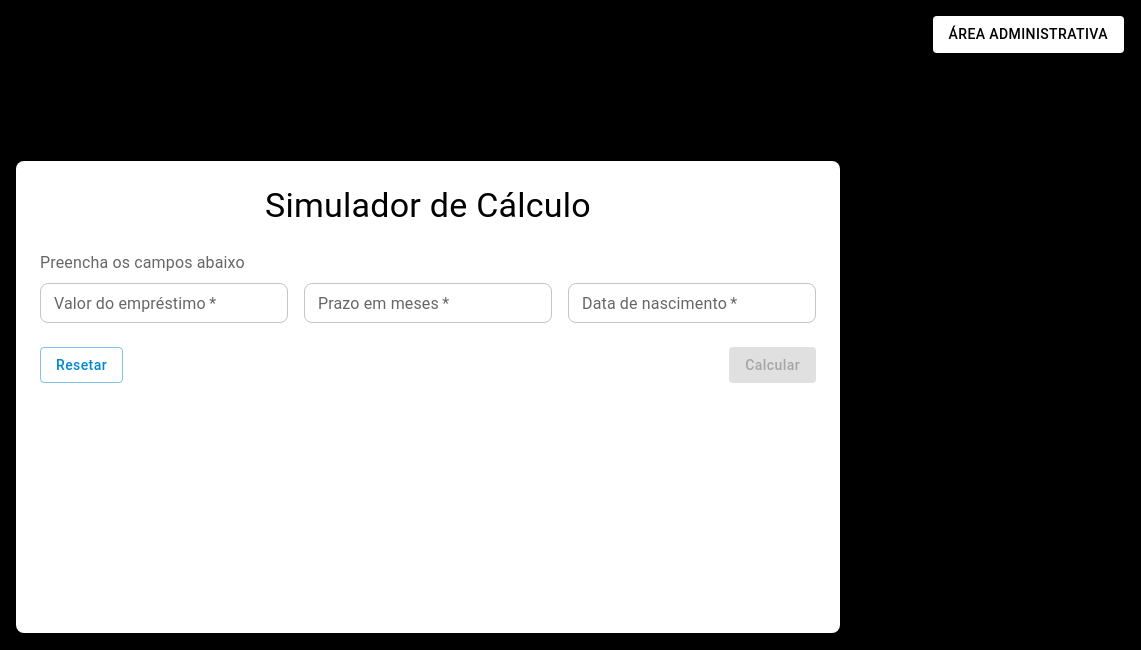
Test: Simulador de Cálculo › reseta os campos ao clicar no botão Resetar
In the field labelled "Valor do empréstimo *": (164, 303) [40,283,288,323], type "1000"
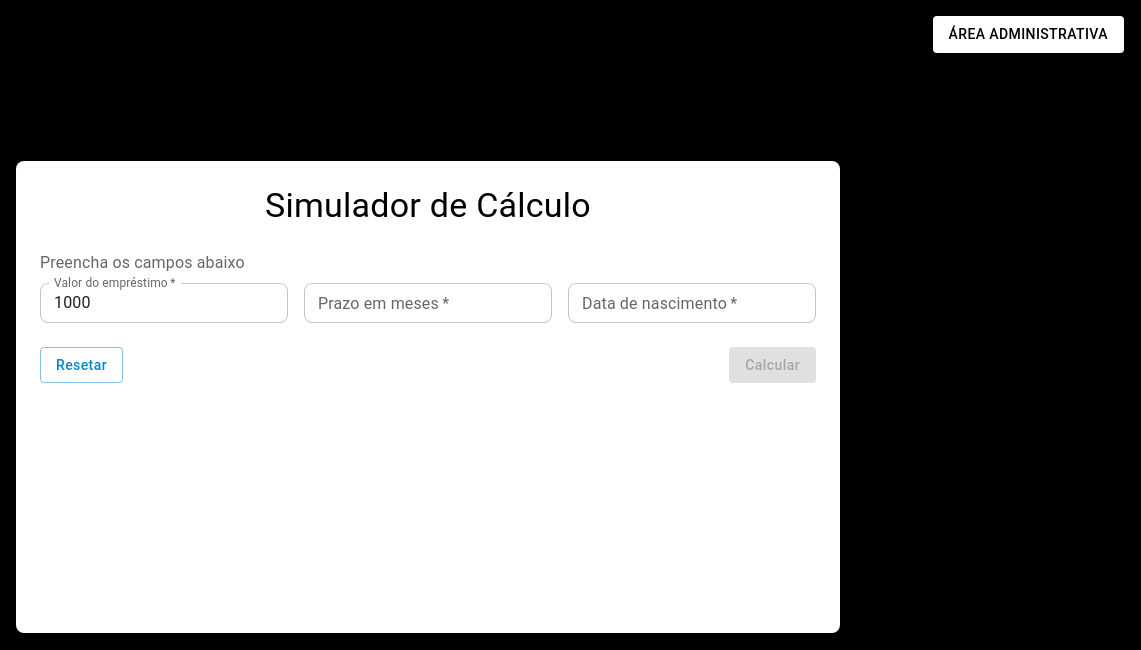
In the field labelled "Prazo em meses *": (428, 303) [304,283,552,323], type "12"
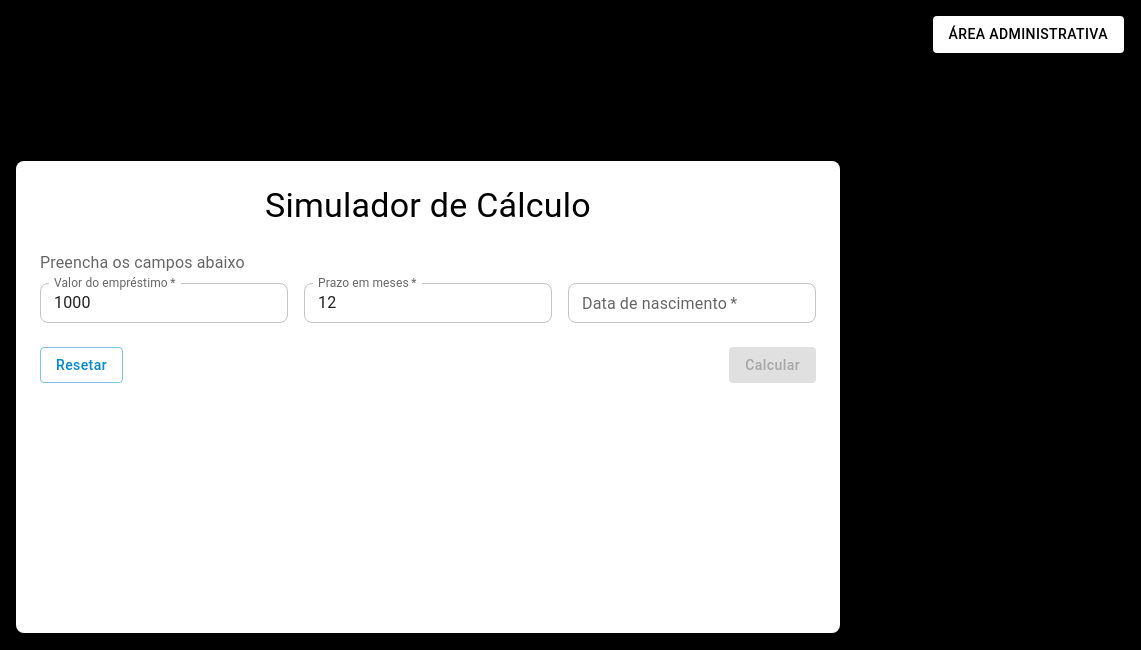
In the field labelled "Data de nascimento *": (692, 303) [568,283,816,323], type "01/01/2000"
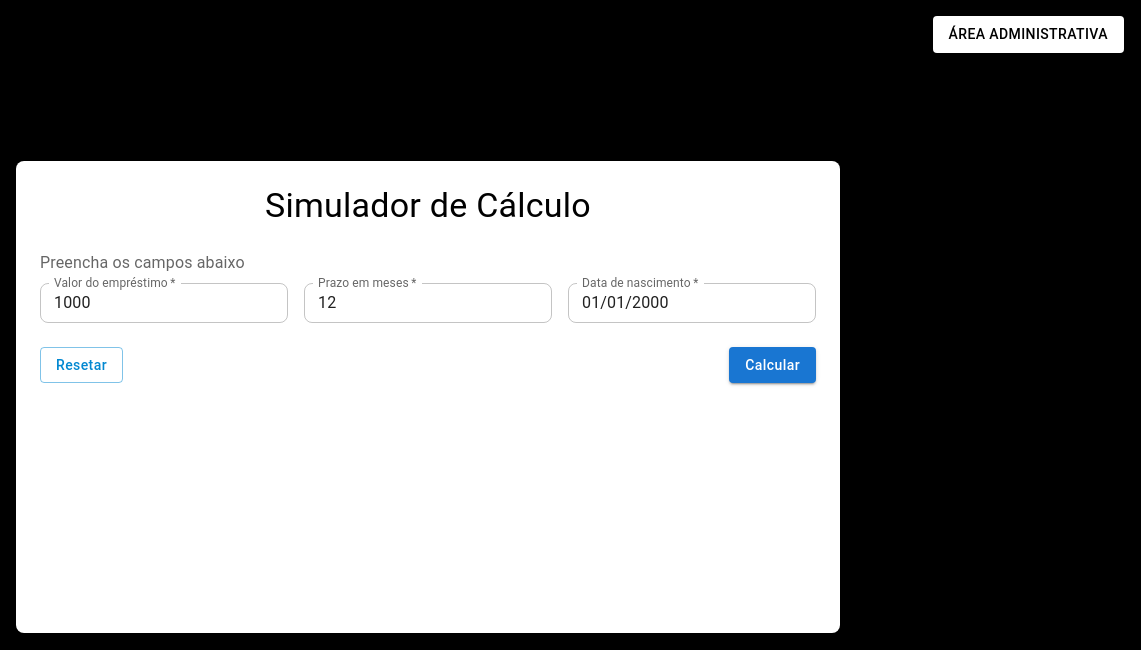
Click the button "Resetar": (82, 365) [40,347,123,384]
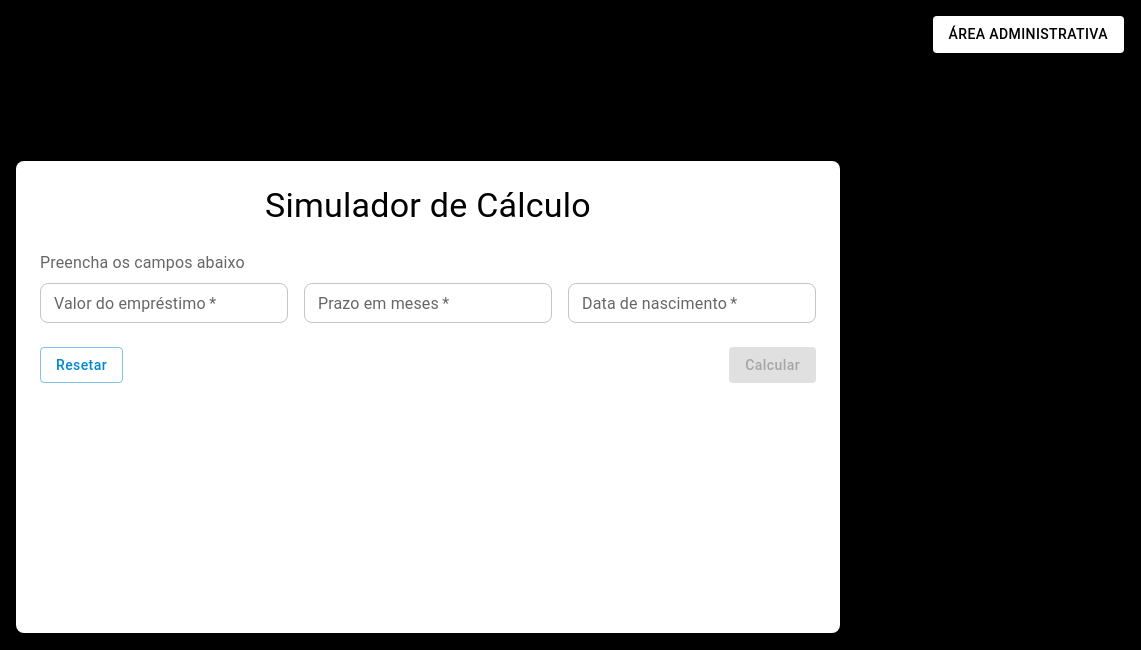
Now the field labelled "Valor do empréstimo *" is empty, box [40,283,288,323]
Now the field labelled "Prazo em meses *" is empty, box [304,283,552,323]
Now the field labelled "Data de nascimento *" is empty, box [568,283,816,323]
